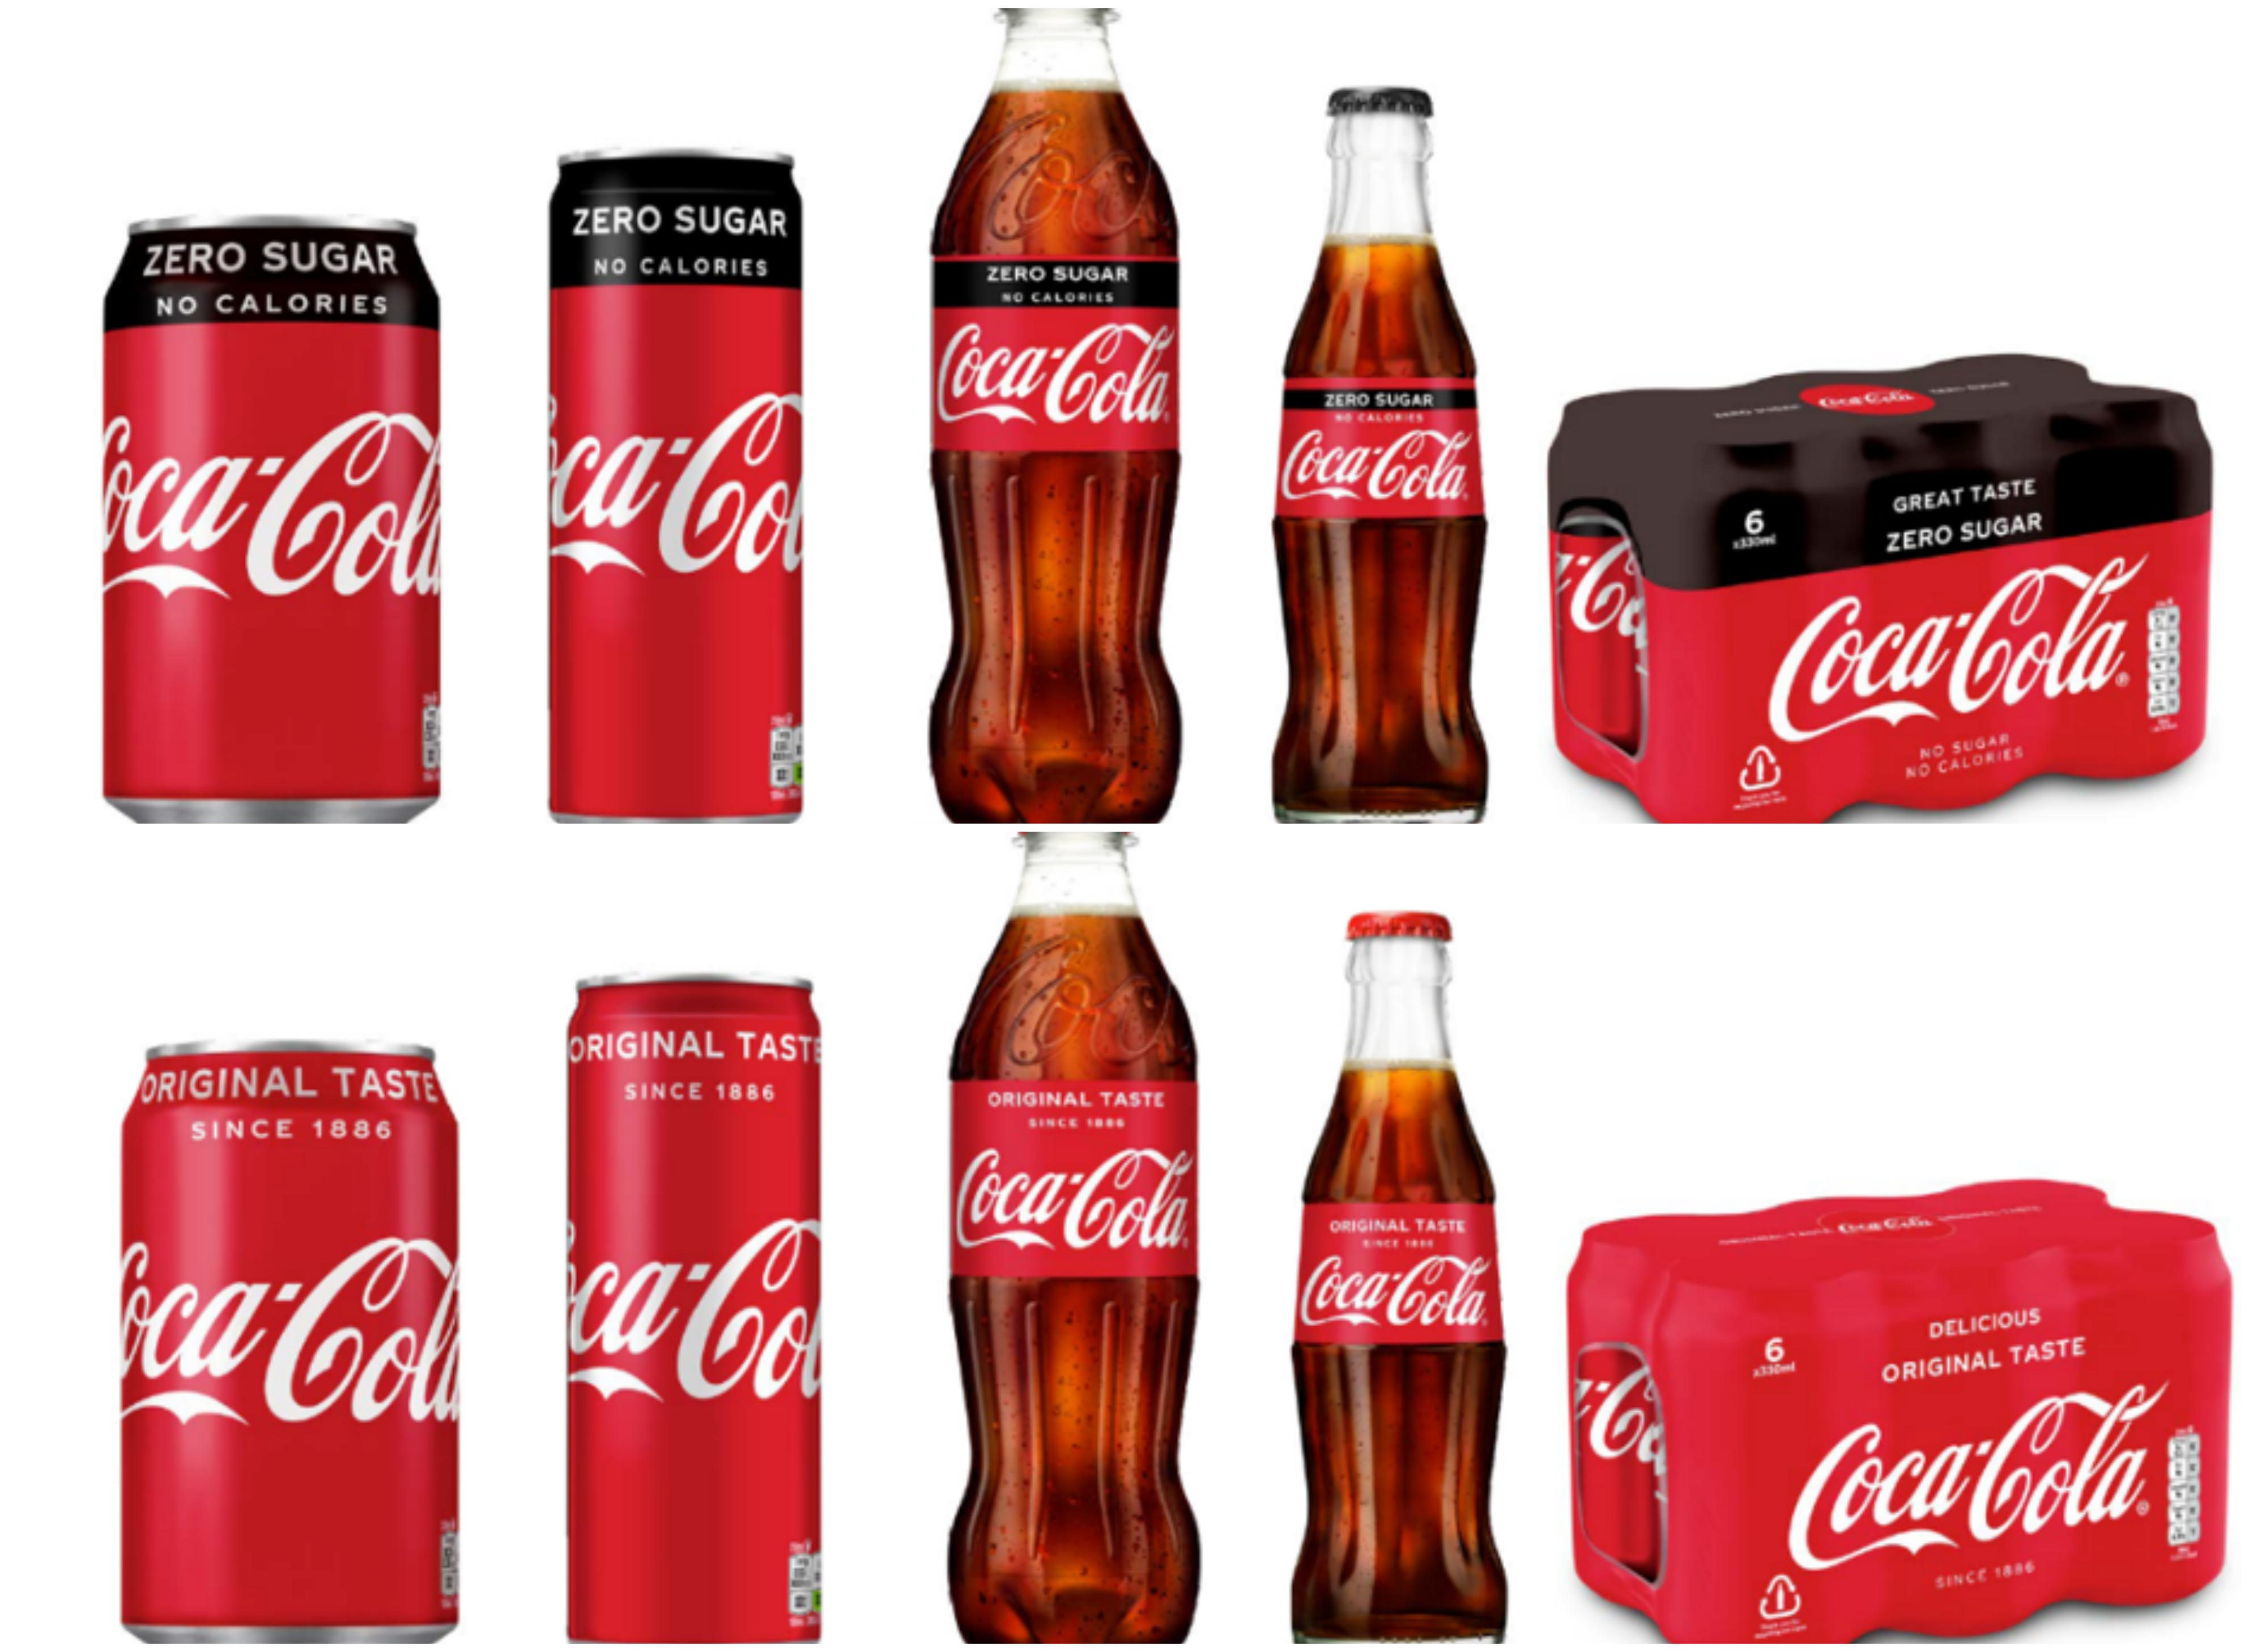coke: (113, 1228, 489, 1469), (83, 403, 468, 635), (1766, 1367, 2146, 1589), (1751, 568, 2167, 764), (545, 1223, 850, 1444), (551, 389, 829, 614), (952, 1105, 1205, 1290), (927, 311, 1195, 486), (1277, 408, 1504, 542), (1302, 1228, 1494, 1367)
